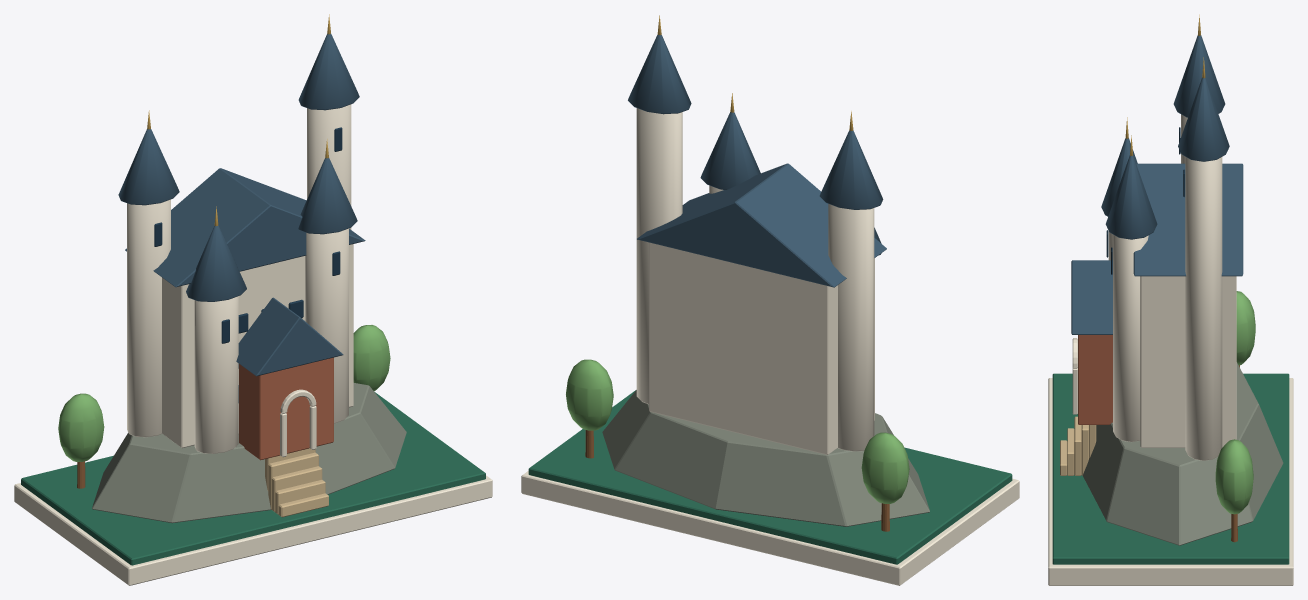
The model's file is neuschwanstein-castle.glb.
3 views of the same model, side by side, from view 1: azimuth 30°, elevation 25°; view 2: azimuth 150°, elevation 25°; view 3: azimuth 270°, elevation 25° (orthographic). The views are drawn at different scales.
Parts seen in each view (by area): view 1: Neuschwanstein Castle; view 2: Neuschwanstein Castle; view 3: Neuschwanstein Castle.
Boxes of the visible parts, <box> form: Neuschwanstein Castle: <box>14,14,492,585</box>; Neuschwanstein Castle: <box>521,15,1019,585</box>; Neuschwanstein Castle: <box>1048,14,1293,585</box>.
Size of the model in its own units: 1.47 by 1.75 by 0.8064.
